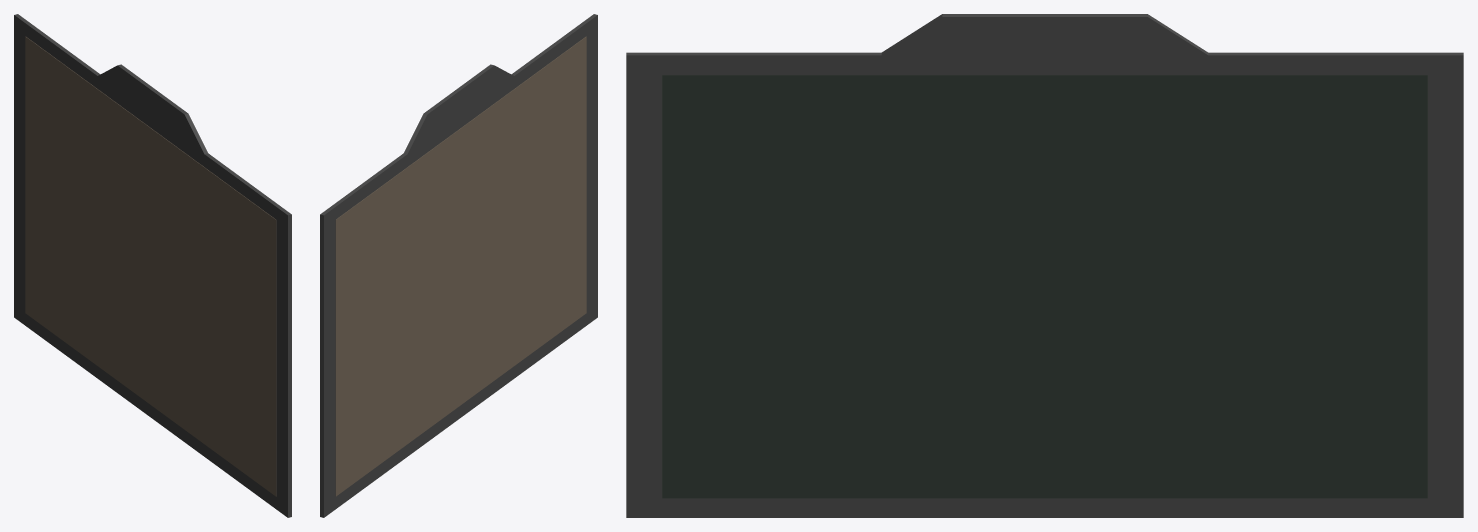
File: pizarron.fbx
3 renders of one model, left to right at view 1: azimuth 30°, elevation 25°; view 2: azimuth 150°, elevation 25°; view 3: azimuth 270°, elevation 25°, orthographic. The views are drawn at different scales.
Parts seen in each view (by area): view 1: polySurface43; view 2: polySurface43; view 3: polySurface43.
Part boxes in pixels (x1,y1,x2,y2): polySurface43: [14, 14, 291, 517]; polySurface43: [320, 14, 597, 517]; polySurface43: [626, 14, 1463, 517].
Bounding box in the file's own units: 0.0962 × 6.9 × 10.45.
